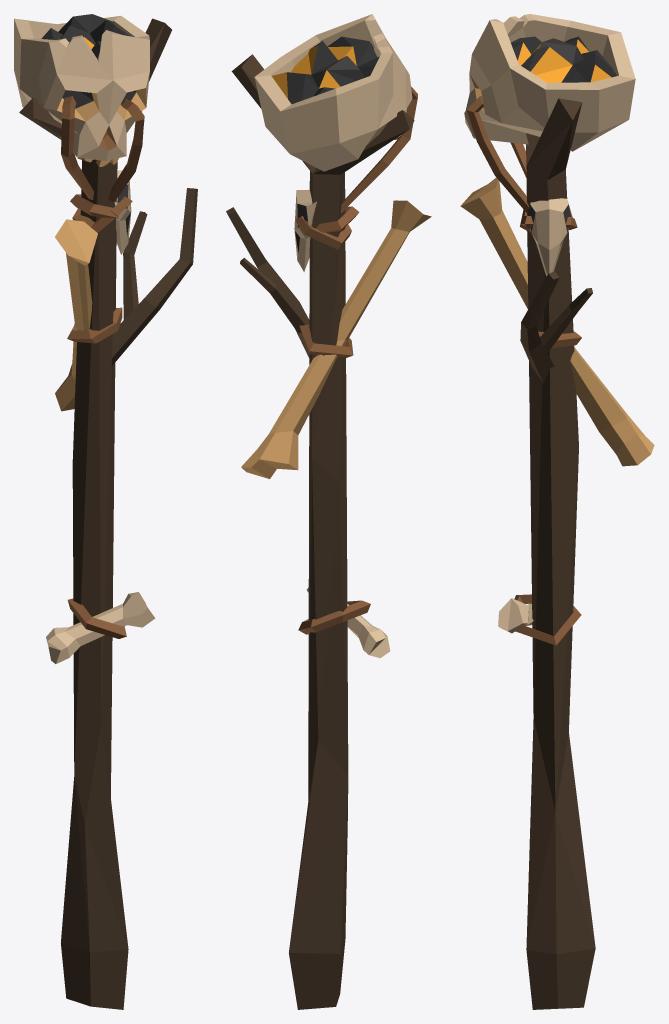
File: SM_Staff_Goblin.fbx
3 renders of one model, left to right at view 1: azimuth 30°, elevation 25°; view 2: azimuth 150°, elevation 25°; view 3: azimuth 270°, elevation 25°, orthographic. The views are drawn at different scales.
Visible parts, largest first — view 1: SM_Staff_Goblin; view 2: SM_Staff_Goblin; view 3: SM_Staff_Goblin.
Boxes of the visible parts, x1,y1,x2,y2 form: SM_Staff_Goblin: (14,14,197,1009); SM_Staff_Goblin: (226,14,431,1009); SM_Staff_Goblin: (460,14,654,1009).
Bounding box in the file's own units: 0.3675 × 1.91 × 0.3444.
